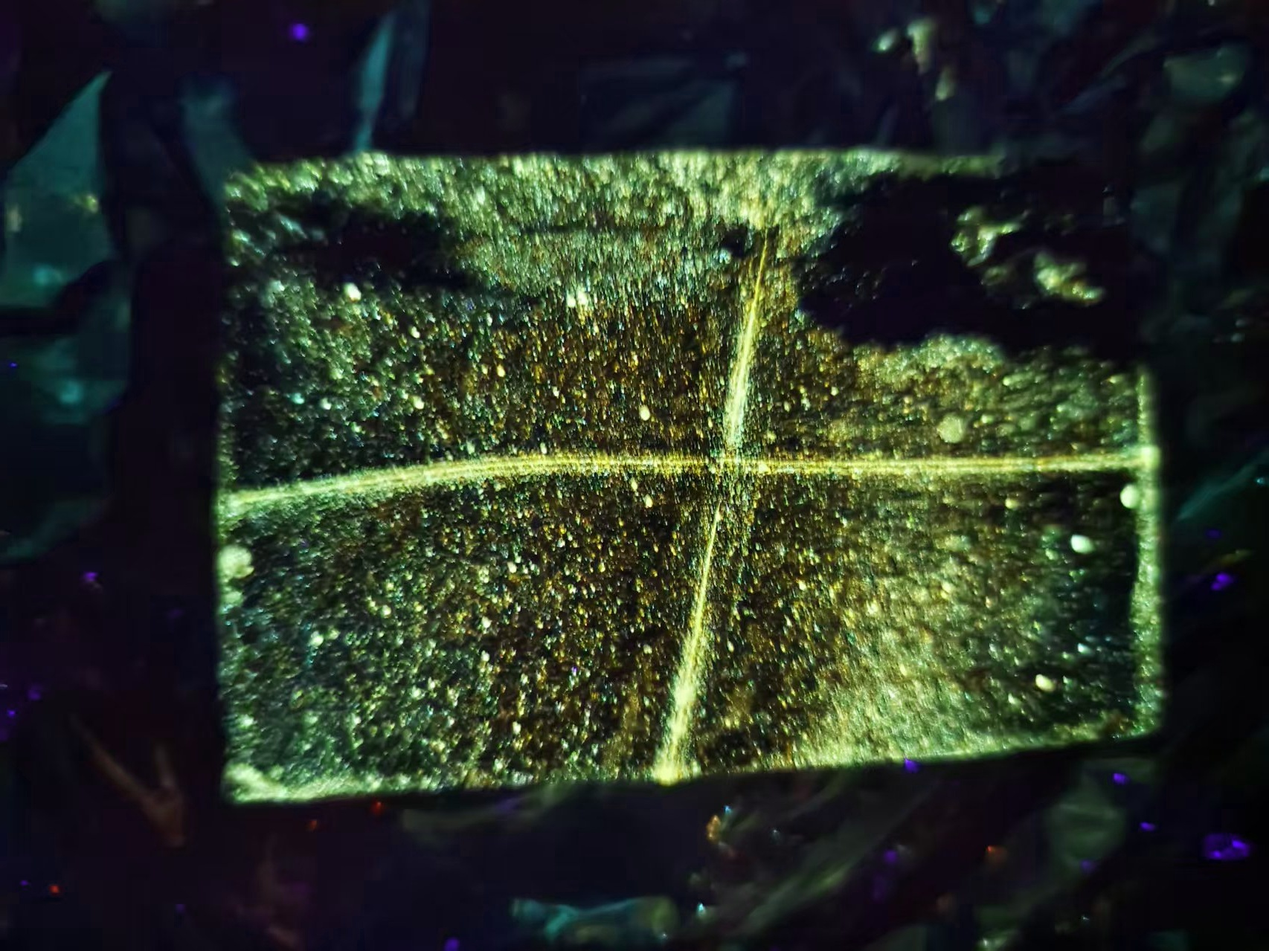Fissure: (199, 420, 1181, 541), (624, 228, 798, 786)
